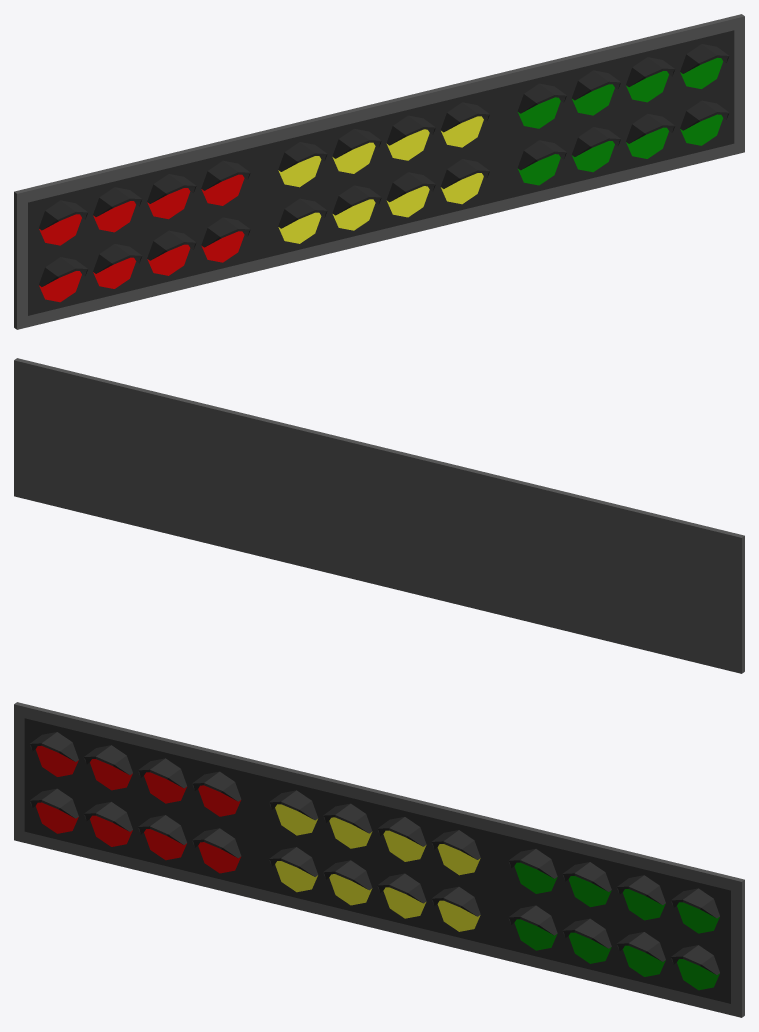
Rendered from ETC0510024.fbx.
The picture shows the model from 3 angles, top to bottom: view 1: azimuth 30°, elevation 25°; view 2: azimuth 150°, elevation 25°; view 3: azimuth 330°, elevation 25°; orthographic projection.
Parts seen in each view (by area): view 1: smETC0510024; view 2: smETC0510024; view 3: smETC0510024.
Boxes of the visible parts, x1=… form: smETC0510024: x1=14, y1=14, x2=744, y2=329; smETC0510024: x1=14, y1=358, x2=744, y2=673; smETC0510024: x1=14, y1=702, x2=744, y2=1017.
Size of the model in its own units: 806 by 144 by 36.
Materials: 1 (1 with a texture image).
